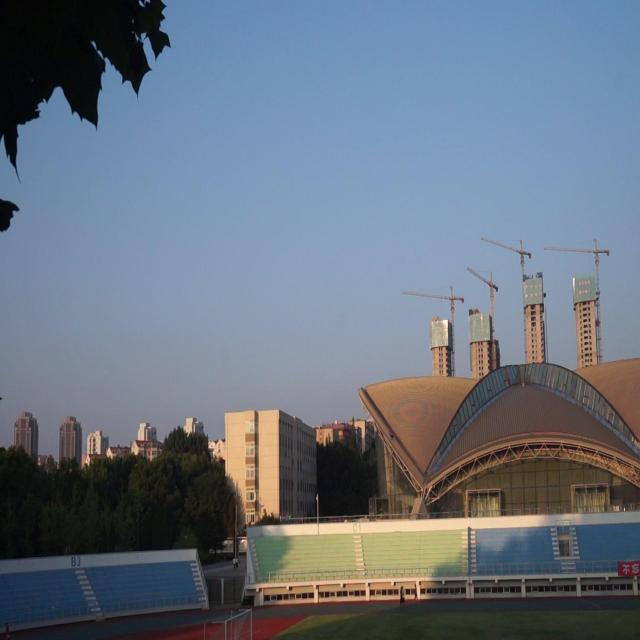UAV: (389, 434, 395, 439)
